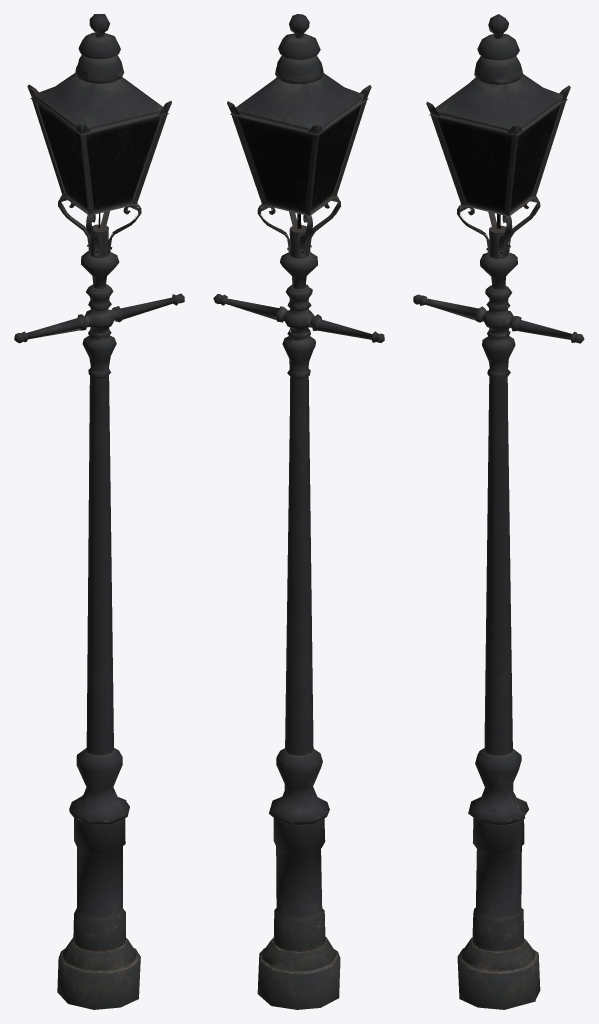
File: street_lamp_01_1k.gltf.lod.glb
3 renders of one model, left to right at view 1: azimuth 30°, elevation 25°; view 2: azimuth 150°, elevation 25°; view 3: azimuth 330°, elevation 25°, orthographic.
Parts seen in each view (by area): view 1: street_lamp_01; view 2: street_lamp_01; view 3: street_lamp_01.
Part boxes in pixels (bbox=[...]): street_lamp_01: bbox=[14, 14, 184, 1009]; street_lamp_01: bbox=[213, 14, 384, 1009]; street_lamp_01: bbox=[413, 14, 584, 1009].
Bounding box in the file's own units: 0.7081 × 3.87 × 0.3839.
Materials: 3 (3 with a texture image).
